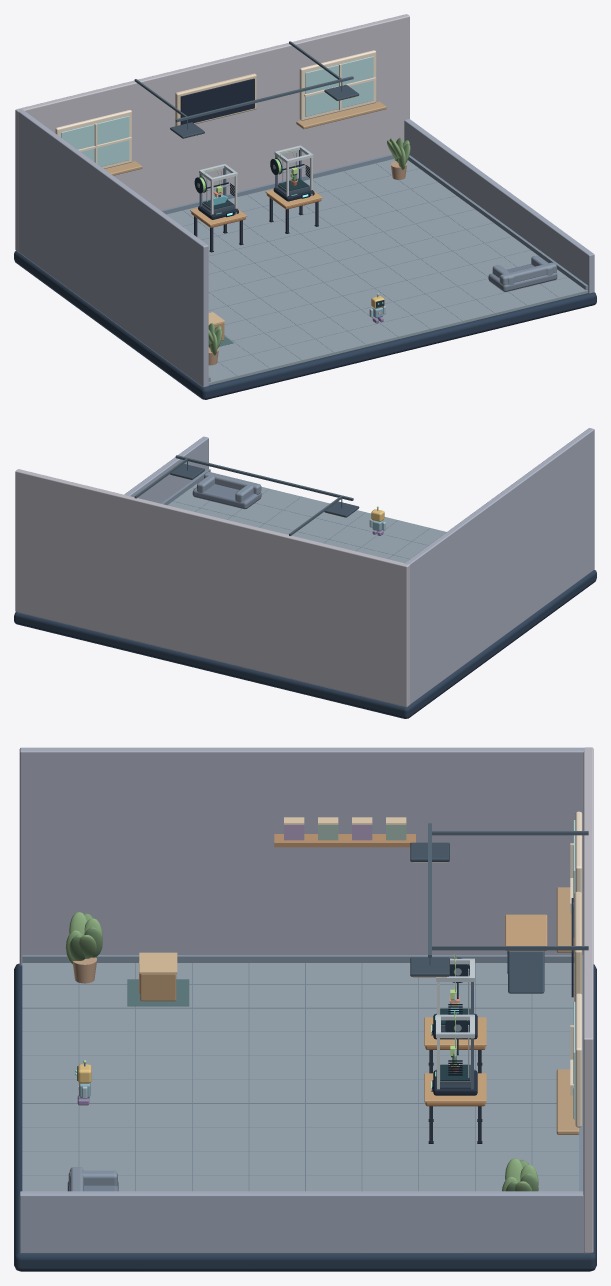
File: workshop.glb
3 renders of one model, top to bottom at view 1: azimuth 30°, elevation 25°; view 2: azimuth 150°, elevation 25°; view 3: azimuth 270°, elevation 25°, orthographic. The views are drawn at different scales.
Parts seen in each view (by area): view 1: PrintLabWorkshop, PrinterStructure (×2); view 2: PrintLabWorkshop; view 3: PrintLabWorkshop, PrinterStructure (×2).
Part boxes in pixels (left/top/right/bottom): PrintLabWorkshop: left=14, top=14, right=596, bottom=399; PrinterStructure (×2): left=190, top=145, right=322, bottom=252; PrintLabWorkshop: left=14, top=428, right=596, bottom=718; PrintLabWorkshop: left=14, top=747, right=596, bottom=1271; PrinterStructure (×2): left=424, top=954, right=486, bottom=1143.
Size of the model in its own units: 12.3 by 4.64 by 10.3.
